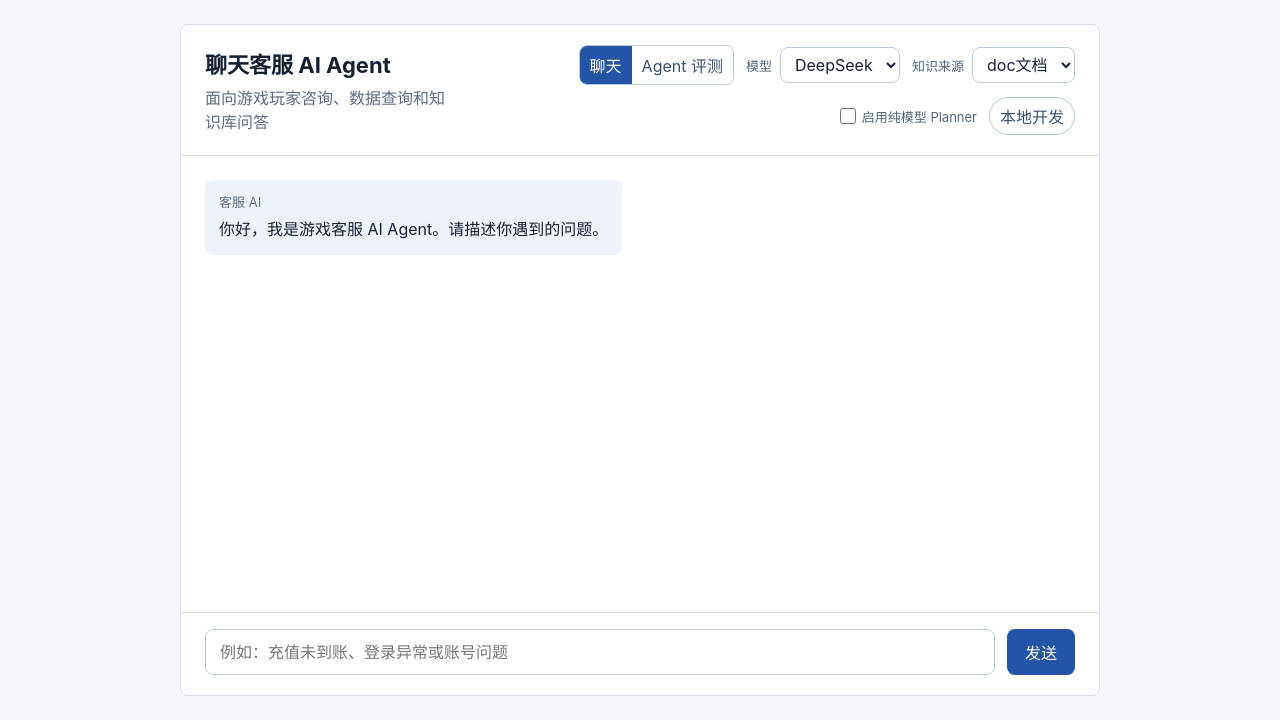
Scenario: App › streams player message to chat API and renders token updates
Type "充值不到账怎么办？" into the field named "输入玩家问题".
click(600, 652); type("充值不到账怎么办？")  # box x1=205 y1=629 x2=995 y2=675
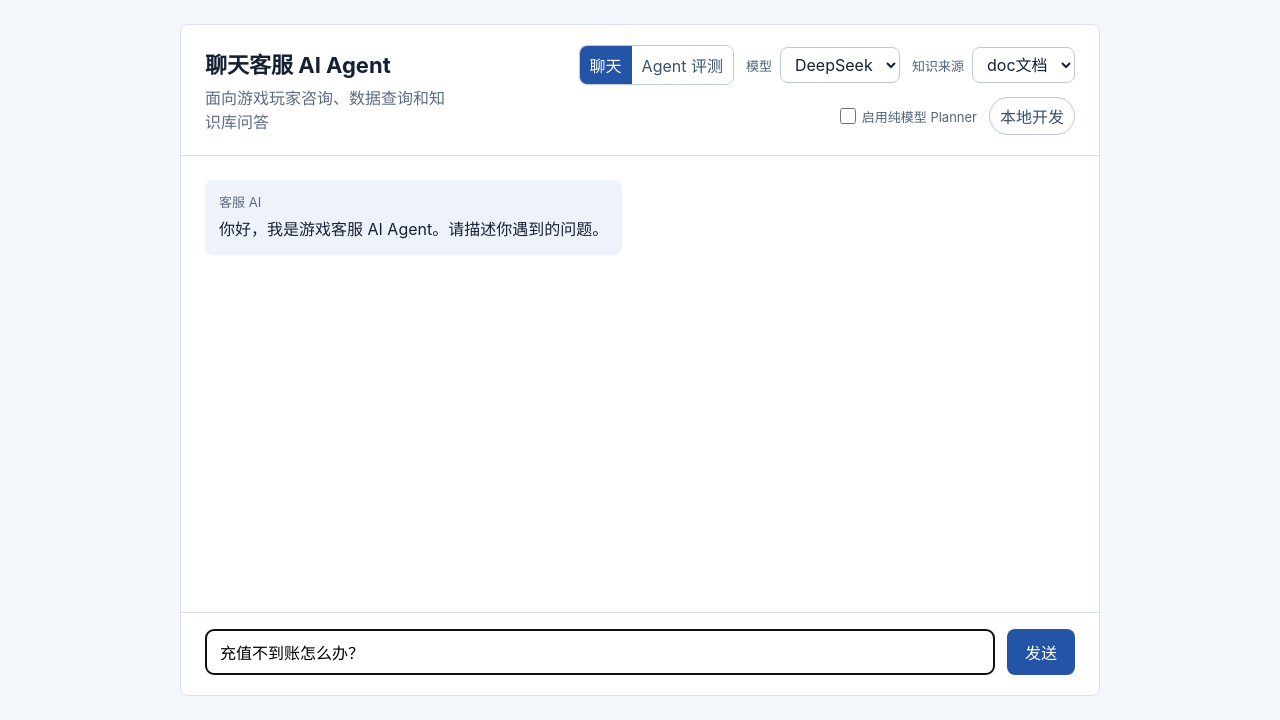
Click the button "发送".
click(1041, 652)  # box x1=1007 y1=629 x2=1075 y2=675
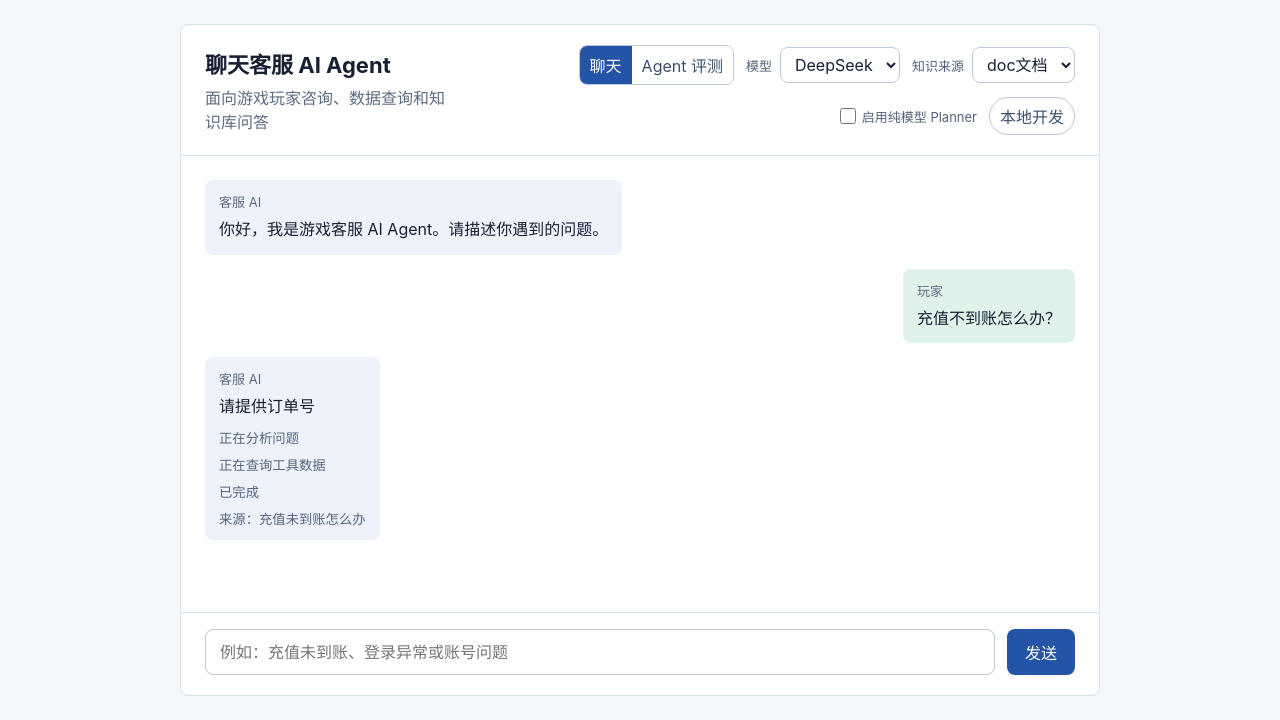
Check: the text "充值不到账怎么办？" is shown, box x1=917 y1=306 x2=1061 y2=331
Check: the text "正在查询工具数据" is shown, box x1=219 y1=457 x2=326 y2=473
Check: the text "请提供订单号" is shown, box x1=219 y1=396 x2=315 y2=416
